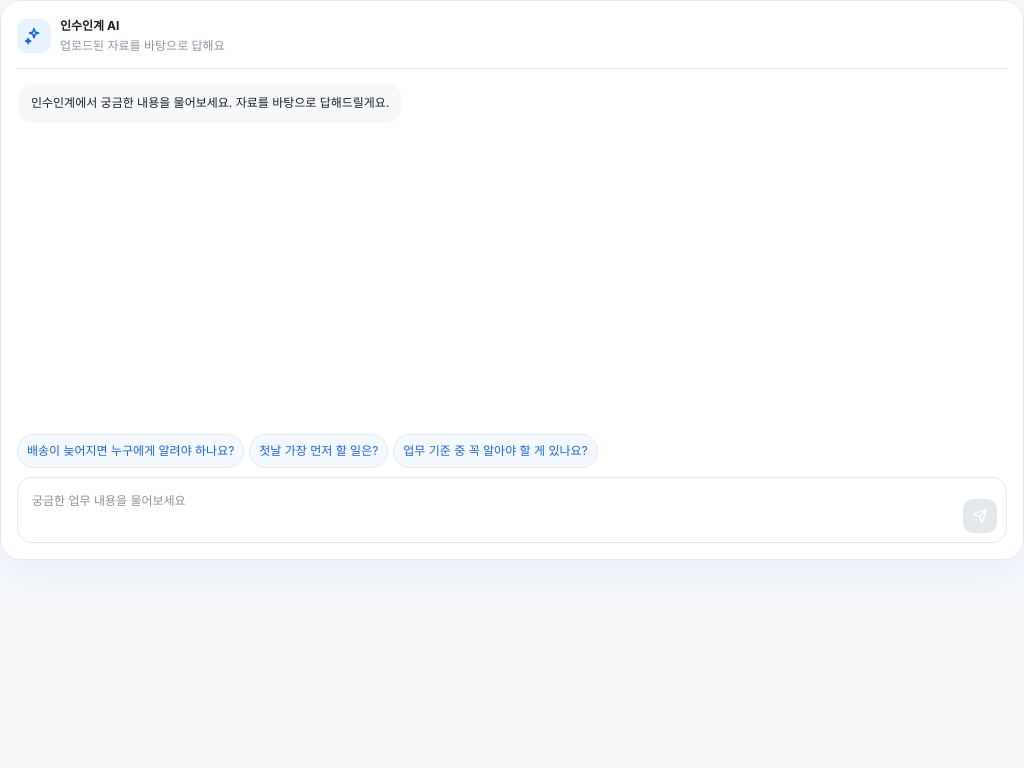
Test case: HandoverChat › asks a served suggestion, displays its source, and scrolls to the answer
Note: 추천 질문은 서버에서 온다. 도착할 때까지 기다린다.
Click the button "배송이 늦어지면 누구에게 알려야 하나요?" at (131, 451), box [17,434,244,468]
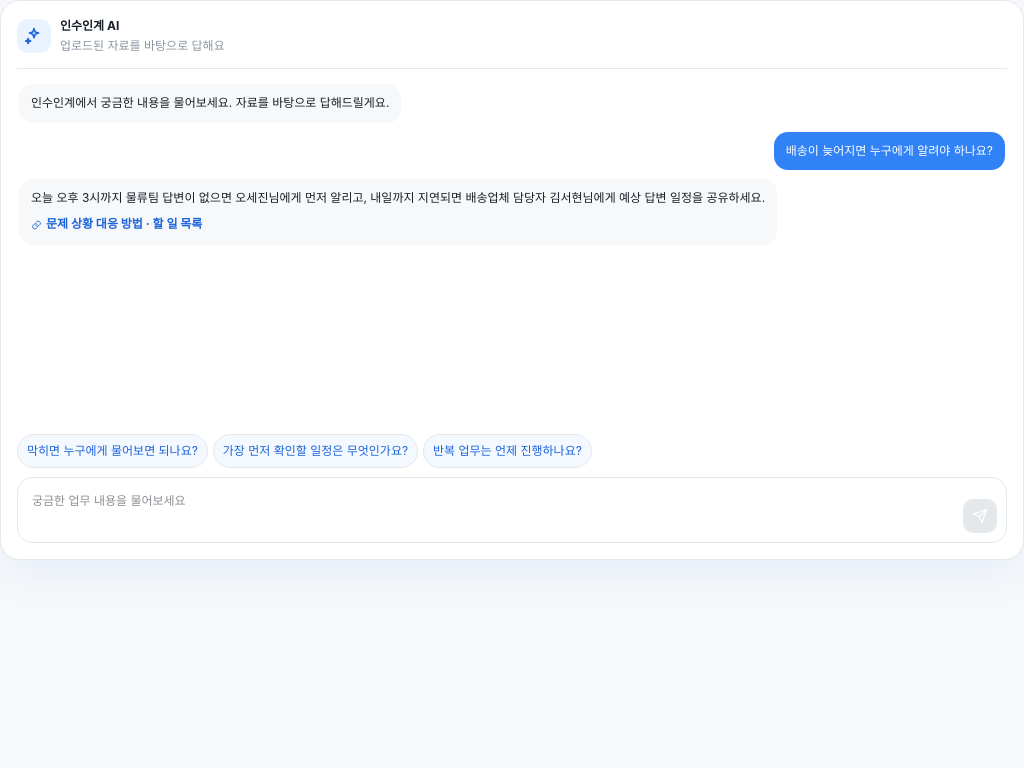
Now the text "오늘 오후 3시까지 물류팀 답변이 없으면" is shown, box [31,190,765,205]
Now the text "문제 상황 대응 방법 · 할 일 목록" is shown, box [31,215,202,235]
